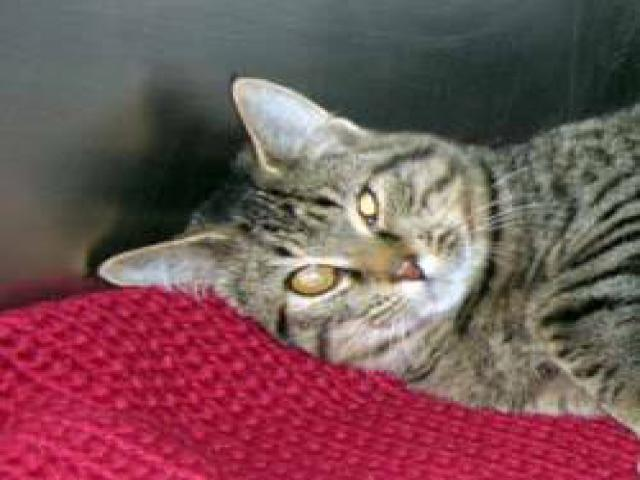cat: (93, 58, 629, 449)
